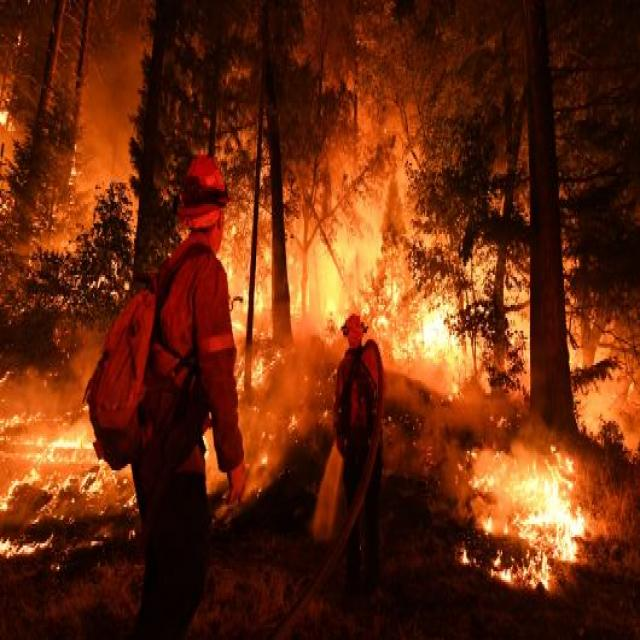Fire: (0, 378, 123, 561), (458, 430, 592, 591)
